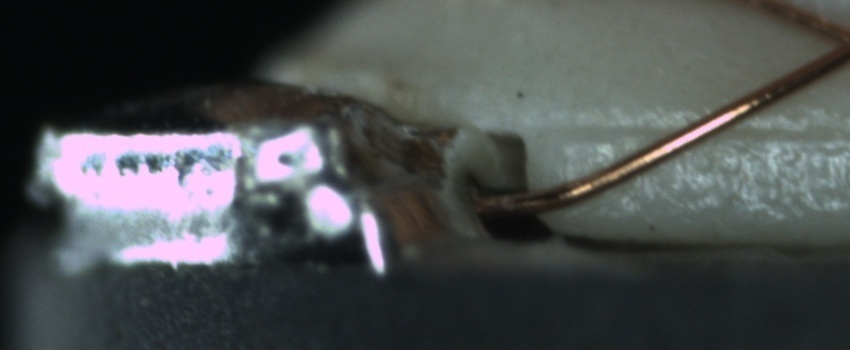CL: (803, 12, 850, 77)
DL: (546, 102, 849, 159)
